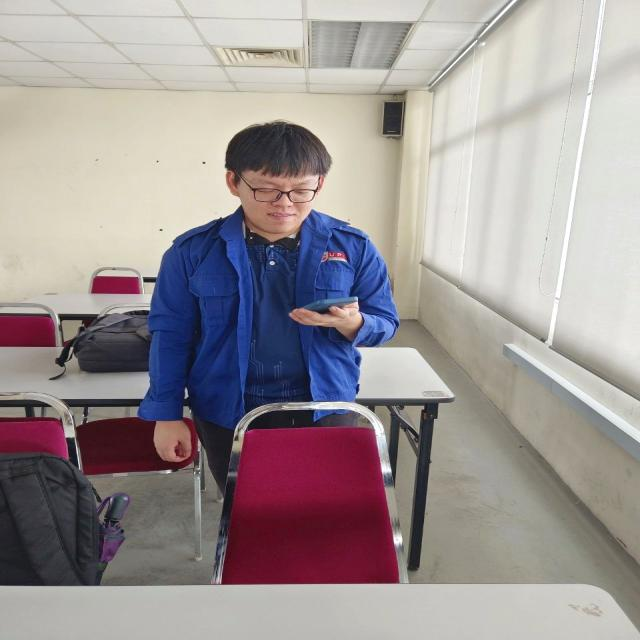person_with_labcoat: (140, 122, 398, 490)
